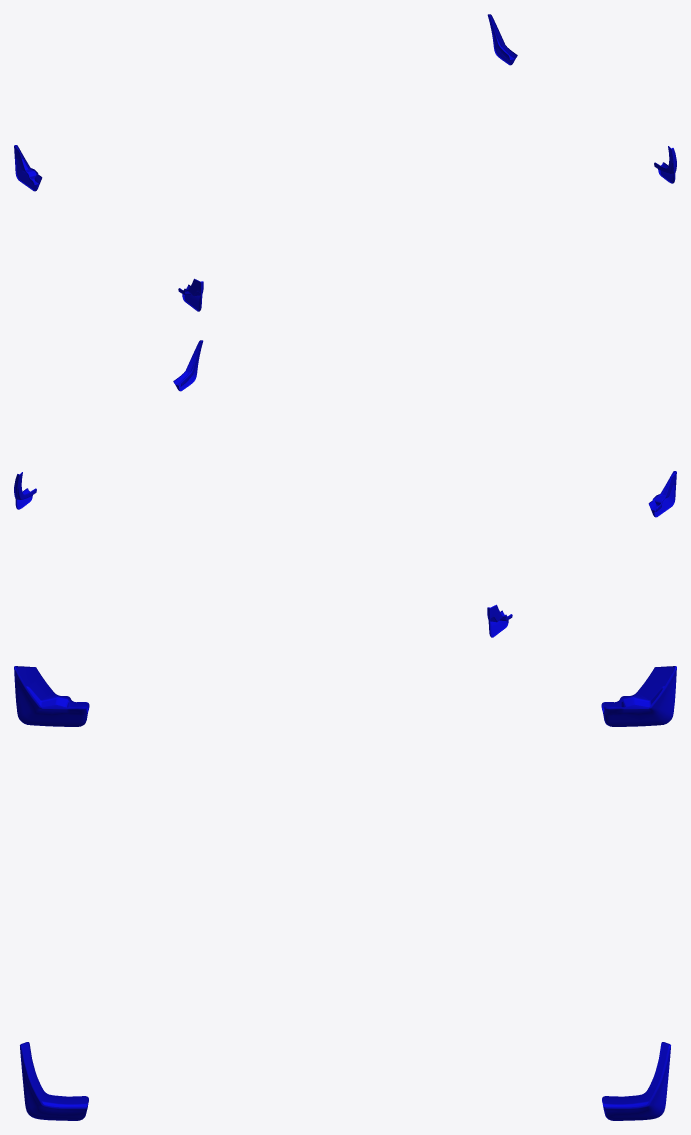
File: NISSAN_MAGNITE_EX_ACC_MT_XVP_XV_XL_XE_SPLASHGUARD_MESH.glb
3 views of the same model, one above another, from view 1: azimuth 30°, elevation 25°; view 2: azimuth 150°, elevation 25°; view 3: azimuth 270°, elevation 25° (orthographic). The views are drawn at different scales.
Parts seen in each view (by area): view 1: NISSAN_MAGNITE_EX_ACC_MT_XVP_XV_XL_XE_SPLASHGUARD_MESH; view 2: NISSAN_MAGNITE_EX_ACC_MT_XVP_XV_XL_XE_SPLASHGUARD_MESH; view 3: NISSAN_MAGNITE_EX_ACC_MT_XVP_XV_XL_XE_SPLASHGUARD_MESH.
Boxes of the visible parts, bbox=[...] form: NISSAN_MAGNITE_EX_ACC_MT_XVP_XV_XL_XE_SPLASHGUARD_MESH: bbox=[14, 14, 676, 311]; NISSAN_MAGNITE_EX_ACC_MT_XVP_XV_XL_XE_SPLASHGUARD_MESH: bbox=[14, 340, 676, 637]; NISSAN_MAGNITE_EX_ACC_MT_XVP_XV_XL_XE_SPLASHGUARD_MESH: bbox=[14, 666, 676, 1120].
Bounding box in the file's own units: 2.56 × 0.2596 × 1.71.
